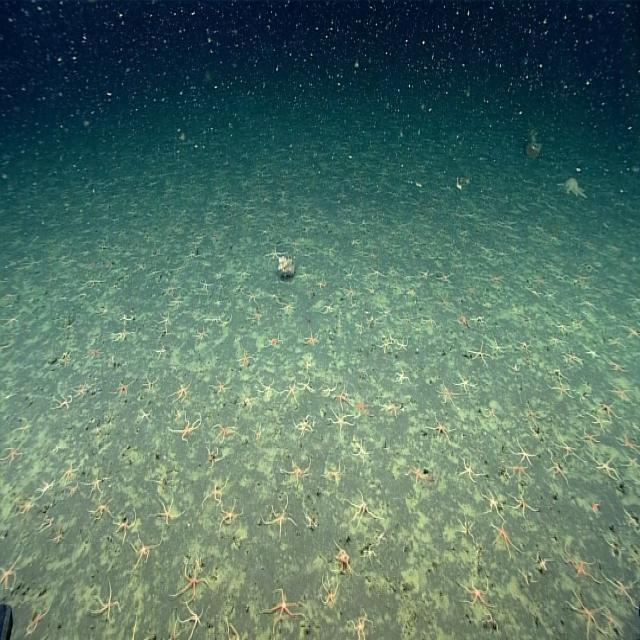brittle-stars: (259, 589, 307, 635), (568, 593, 608, 637), (558, 545, 600, 584), (171, 565, 211, 604), (600, 571, 640, 608), (259, 498, 295, 537), (342, 491, 383, 525), (92, 582, 120, 622), (130, 536, 162, 570), (176, 600, 203, 640), (151, 494, 183, 526), (458, 580, 492, 608), (0, 550, 22, 592), (506, 488, 536, 517), (491, 520, 515, 556), (172, 413, 200, 443), (328, 407, 356, 437), (24, 604, 51, 635), (217, 500, 246, 528), (557, 434, 584, 463), (594, 454, 620, 484), (334, 544, 357, 577), (202, 479, 228, 508), (425, 417, 454, 443), (544, 456, 569, 486), (601, 605, 624, 637), (285, 460, 310, 488), (317, 578, 341, 607), (347, 614, 373, 640), (113, 511, 137, 539), (459, 454, 482, 483), (88, 498, 112, 523), (11, 413, 36, 437), (83, 476, 112, 496), (56, 315, 78, 341), (482, 490, 502, 518), (510, 441, 534, 464), (608, 382, 634, 403), (436, 383, 458, 406), (168, 381, 190, 404), (60, 461, 83, 483), (452, 372, 476, 393), (14, 497, 38, 518), (584, 410, 609, 430), (35, 478, 54, 504), (212, 424, 239, 442), (352, 444, 373, 467), (324, 464, 348, 484), (550, 381, 576, 399), (468, 342, 489, 364), (112, 380, 134, 401), (457, 516, 476, 540), (616, 432, 640, 451), (351, 398, 373, 418), (522, 404, 541, 427), (575, 427, 600, 444), (132, 615, 149, 640), (291, 415, 312, 435), (598, 399, 618, 420), (1, 443, 20, 465), (483, 612, 501, 635), (209, 376, 230, 394), (280, 384, 299, 403), (50, 526, 68, 546), (36, 516, 54, 535), (333, 391, 351, 410), (605, 535, 623, 554), (510, 466, 531, 482), (605, 358, 629, 372), (110, 329, 135, 342), (407, 465, 425, 483), (154, 314, 172, 332), (170, 620, 186, 640), (224, 619, 239, 640), (623, 505, 637, 527), (258, 380, 276, 397), (622, 452, 640, 469), (74, 381, 92, 398), (548, 369, 568, 384), (238, 394, 255, 411), (520, 570, 538, 586), (578, 298, 597, 313), (52, 395, 72, 409), (206, 448, 219, 469), (236, 350, 252, 367), (302, 509, 317, 527), (86, 347, 104, 362), (376, 306, 394, 321), (0, 314, 19, 328), (532, 556, 552, 569), (383, 401, 401, 415), (278, 302, 296, 316), (162, 282, 180, 296), (171, 261, 189, 275), (65, 482, 78, 501), (142, 375, 158, 390), (361, 548, 376, 564), (265, 250, 285, 262), (340, 286, 360, 298), (322, 384, 339, 398), (193, 328, 210, 342), (623, 324, 640, 338), (565, 352, 583, 365), (394, 369, 409, 384), (436, 270, 452, 284), (300, 377, 313, 394), (242, 291, 260, 303), (368, 266, 386, 278), (607, 338, 626, 349), (265, 336, 282, 348), (247, 314, 264, 326), (583, 347, 600, 359), (80, 279, 102, 288), (378, 338, 392, 352), (58, 353, 71, 368), (395, 338, 408, 352), (218, 314, 232, 327), (250, 424, 262, 439), (138, 410, 153, 422), (483, 408, 498, 420), (491, 342, 506, 354), (321, 304, 335, 316), (518, 340, 532, 352), (423, 317, 437, 329), (343, 266, 355, 280), (303, 359, 314, 374), (0, 388, 15, 399), (471, 316, 487, 326), (354, 320, 364, 336), (296, 271, 312, 281), (552, 321, 565, 333), (304, 334, 318, 345), (236, 268, 250, 279), (418, 269, 432, 280), (95, 309, 114, 317), (155, 344, 165, 359), (200, 279, 212, 291), (50, 443, 63, 454), (352, 235, 363, 248), (328, 242, 338, 256), (490, 274, 504, 284), (377, 530, 386, 545), (315, 279, 326, 291), (204, 318, 222, 325), (626, 293, 640, 302), (456, 312, 466, 324), (167, 300, 182, 308), (121, 315, 130, 328), (187, 252, 201, 260), (0, 342, 10, 352), (367, 285, 376, 295), (551, 338, 561, 346), (510, 364, 520, 372), (268, 294, 278, 301), (78, 294, 88, 301)
